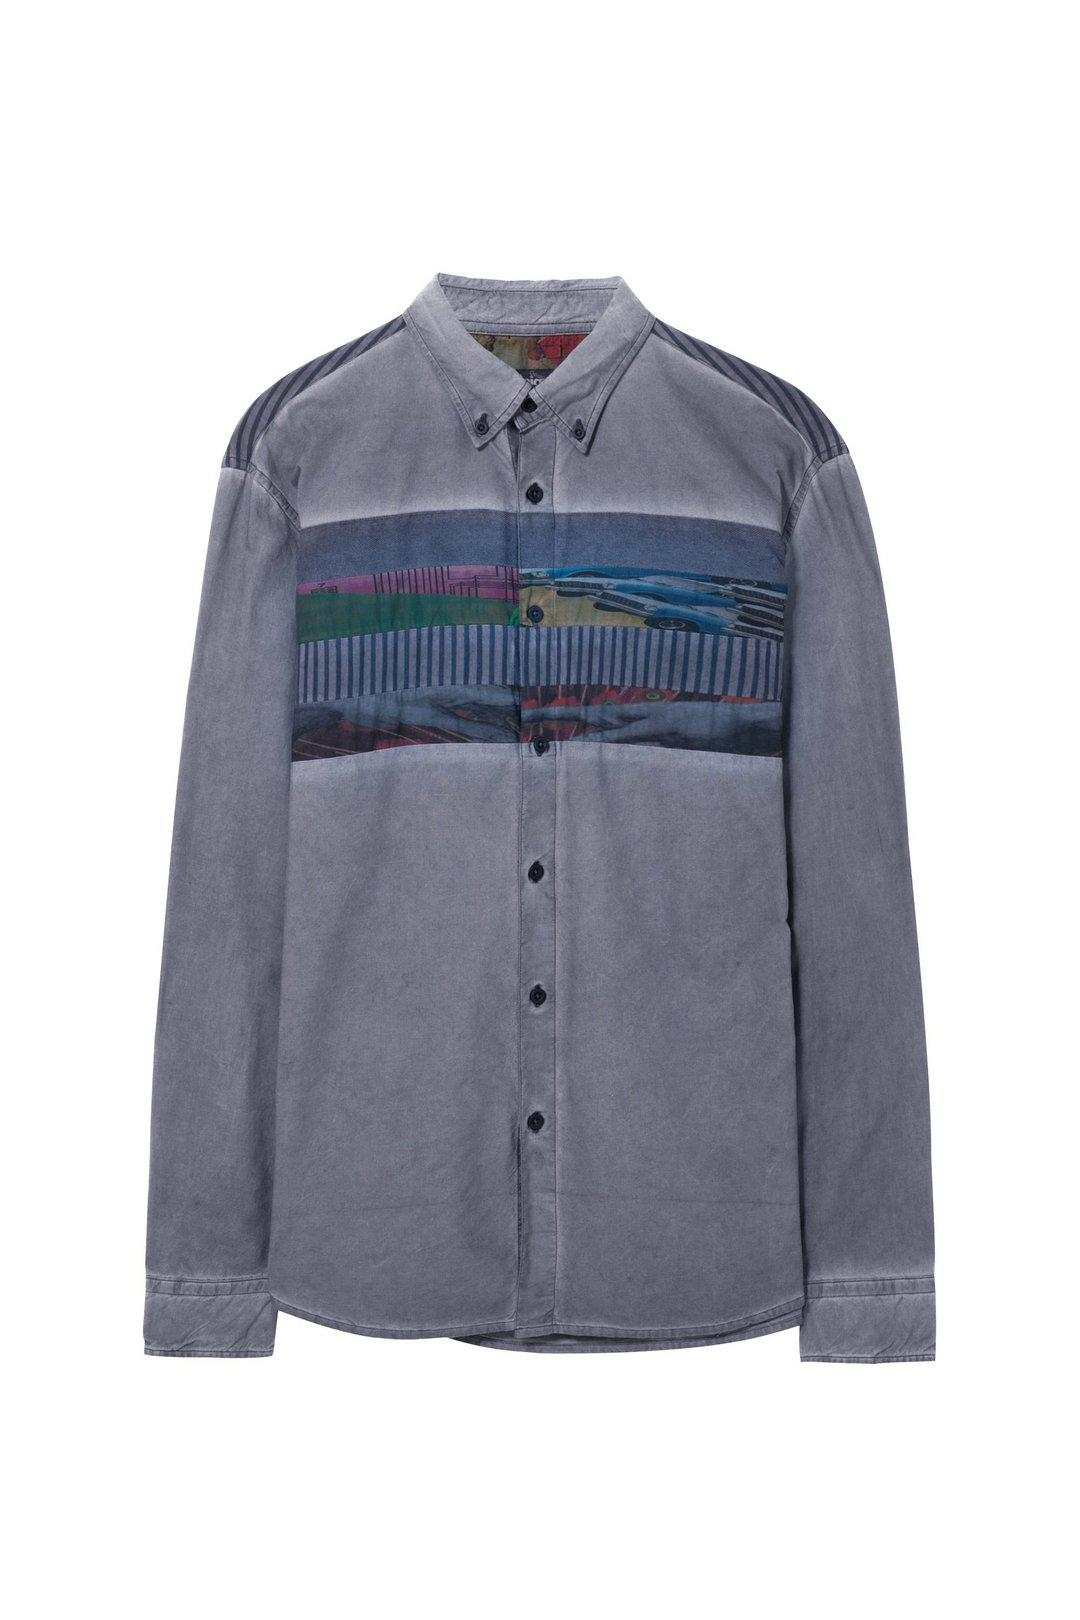teeshirt: (127, 262, 958, 1415)
